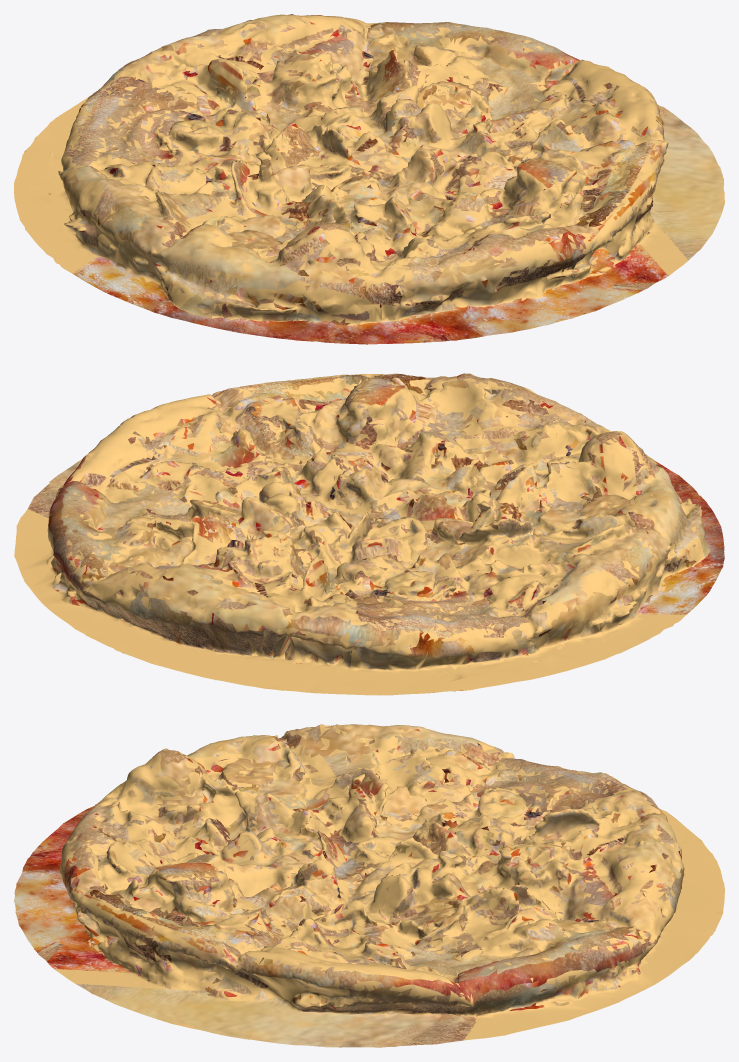
File: pizza.gltf
3 views of the same model, one above another, from view 1: azimuth 30°, elevation 25°; view 2: azimuth 150°, elevation 25°; view 3: azimuth 270°, elevation 25° (orthographic).
Visible parts, largest first — view 1: decMesh; view 2: decMesh; view 3: decMesh.
Boxes of the visible parts, x1=… form: decMesh: x1=14, y1=14, x2=724, y2=344; decMesh: x1=14, y1=373, x2=724, y2=695; decMesh: x1=14, y1=724, x2=724, y2=1047.
Size of the model in its own units: 0.6983 by 0.0847 by 0.698.
